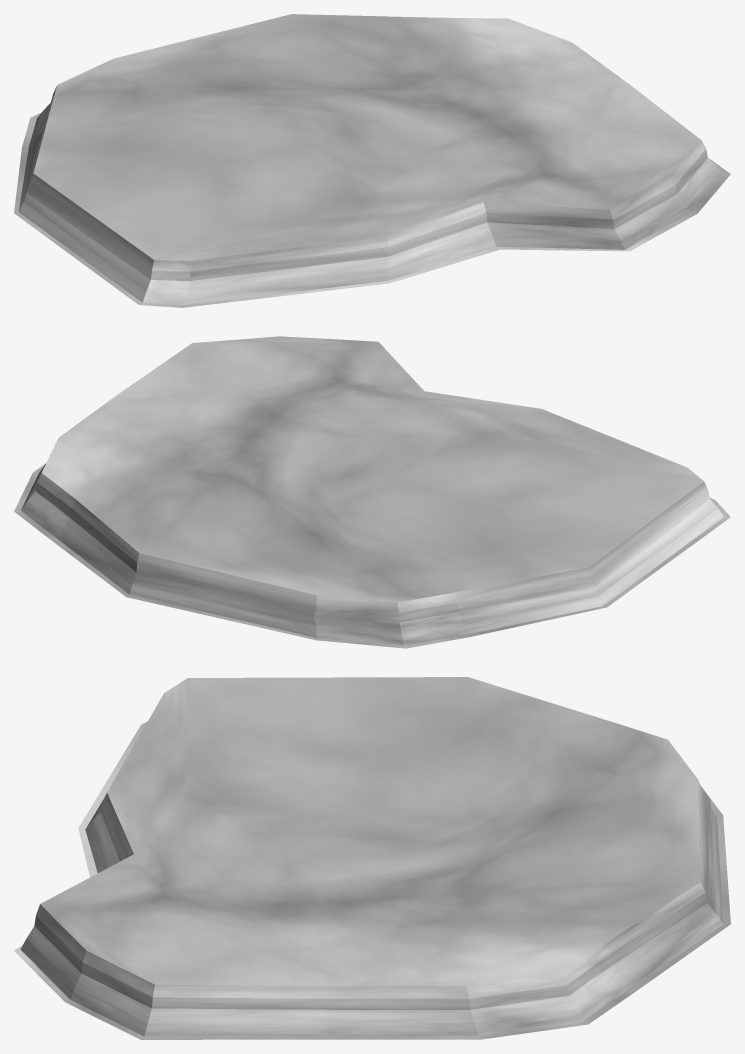
File: Large_StepStone3.obj
3 views of the same model, one above another, from view 1: azimuth 30°, elevation 25°; view 2: azimuth 150°, elevation 25°; view 3: azimuth 270°, elevation 25° (orthographic). The views are drawn at different scales.
Parts seen in each view (by area): view 1: Cube_Cube.001; view 2: Cube_Cube.001; view 3: Cube_Cube.001.
Part boxes in pixels (left/top/right/bottom): Cube_Cube.001: left=14, top=14, right=730, bottom=307; Cube_Cube.001: left=14, top=336, right=730, bottom=648; Cube_Cube.001: left=14, top=677, right=730, bottom=1039.
Bounding box in the file's own units: 15.77 × 0.9233 × 14.37.
